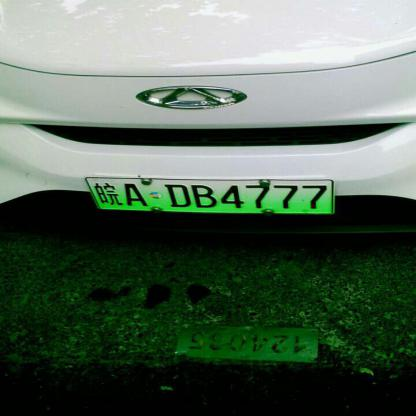lp: (86, 178, 332, 213)
